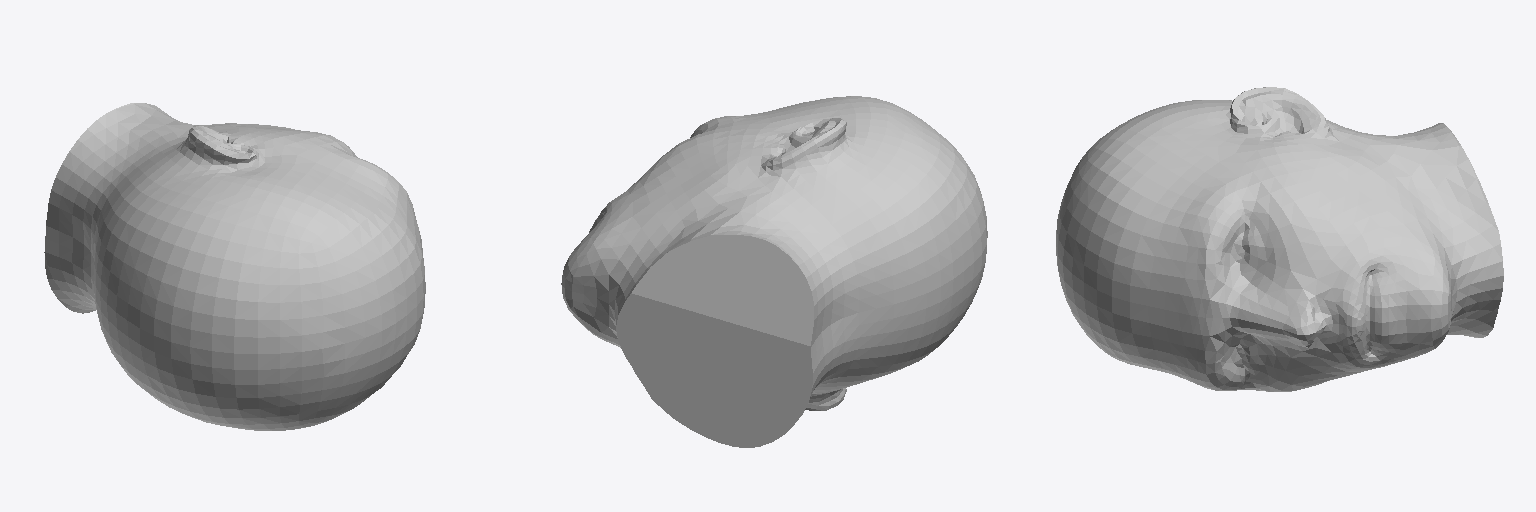
Rendered from Head.obj.
3 renders of one model, left to right at view 1: azimuth 30°, elevation 25°; view 2: azimuth 150°, elevation 25°; view 3: azimuth 270°, elevation 25°, orthographic.
Parts seen in each view (by area): view 1: FinalBaseMesh; view 2: FinalBaseMesh; view 3: FinalBaseMesh.
Boxes of the visible parts, x1,y1,x2,y2 form: FinalBaseMesh: [44, 103, 425, 430]; FinalBaseMesh: [561, 96, 987, 447]; FinalBaseMesh: [1056, 87, 1503, 391].
Bounding box in the file's own units: 0.2301 × 0.188 × 0.2742.